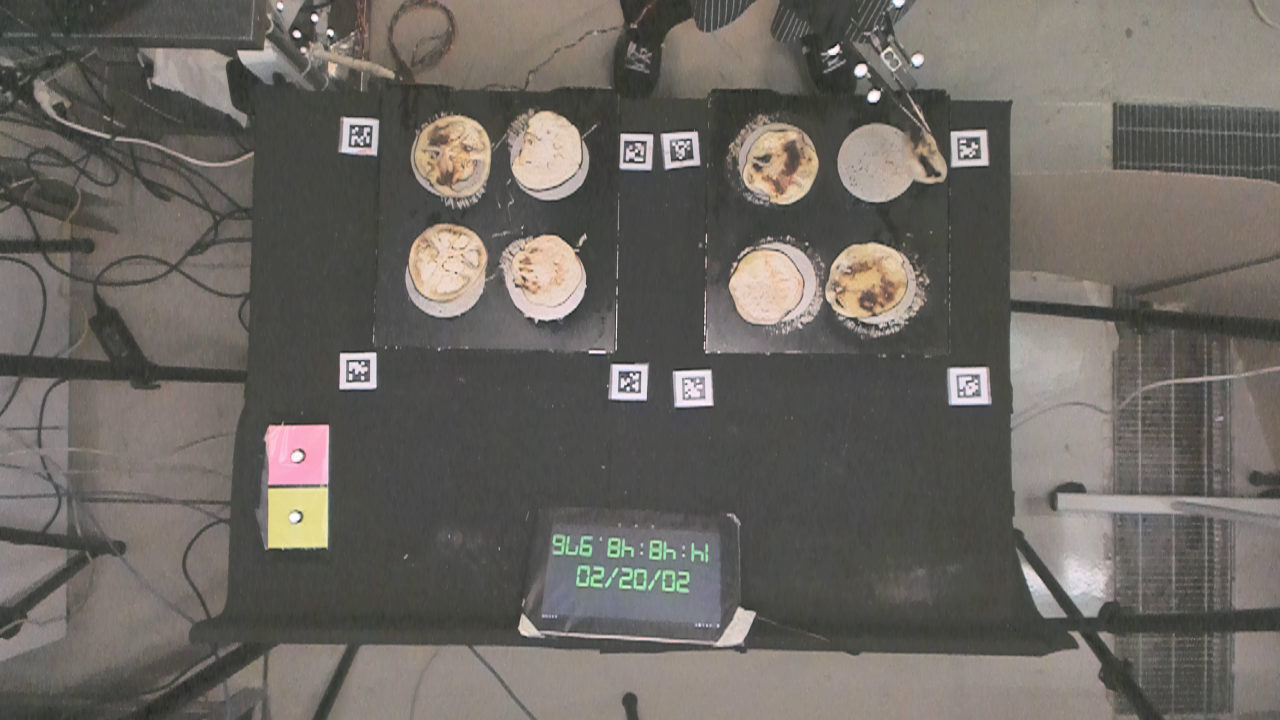eggplant: (823, 235, 909, 321), (741, 127, 823, 207), (416, 114, 491, 198), (407, 224, 486, 302), (510, 109, 585, 189), (726, 249, 803, 324), (510, 234, 582, 305), (903, 117, 948, 185)
marker: (269, 424, 329, 485)
